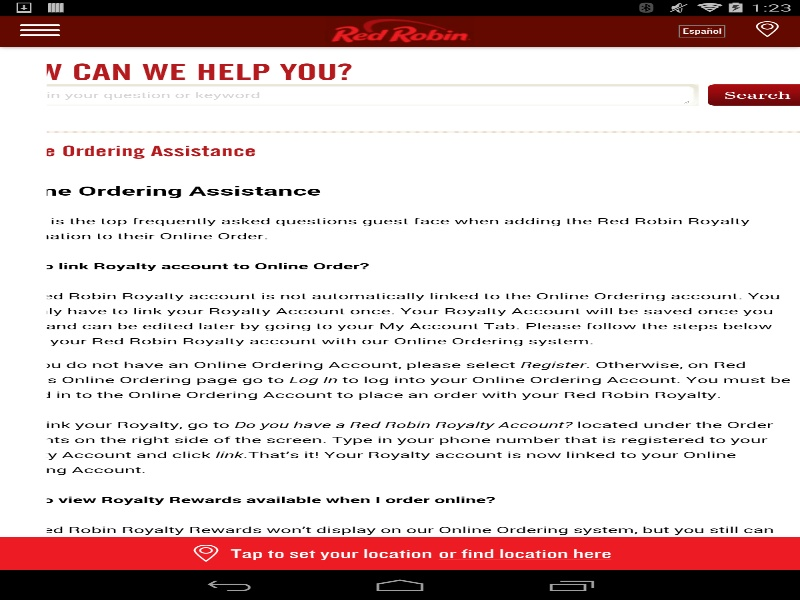Input: (4, 86, 689, 103)
